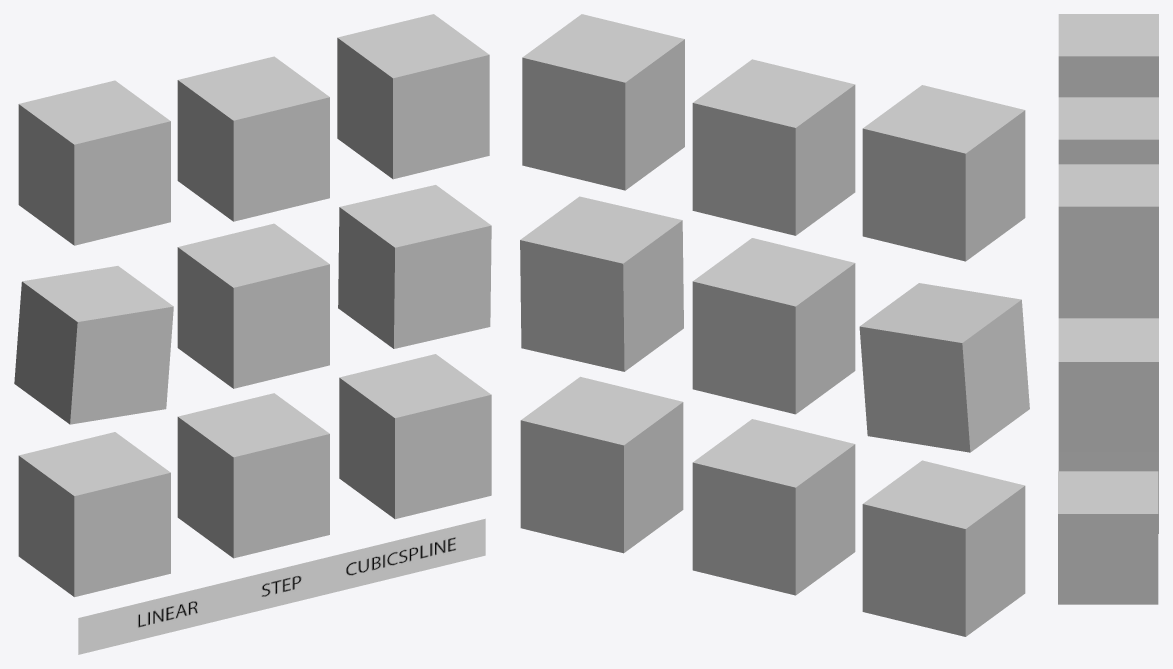
Rendered from InterpolationTest.glb.
The picture shows the model from 3 angles, left to right: view 1: azimuth 30°, elevation 25°; view 2: azimuth 150°, elevation 25°; view 3: azimuth 270°, elevation 25°; orthographic projection. The views are drawn at different scales.
Visible parts, largest first — view 1: Cube.002, Cube.009, Cube, Cube.001, Cube.008, Cube.003, Cube.006, Cube.004, Cube.005, Plane; view 2: Cube.006, Cube.003, Cube.002, Cube, Cube.001, Cube.009, Cube.004, Cube.008, Cube.005; view 3: Cube.004, Cube.002, Cube.008, Cube.009, Cube.006, Cube.003, Cube.
Part boxes in pixels (left/top/right/bottom): Cube.002: left=339, top=354, right=491, bottom=519; Cube.009: left=18, top=80, right=170, bottom=245; Cube: left=177, top=393, right=329, bottom=558; Cube.001: left=18, top=432, right=170, bottom=597; Cube.008: left=337, top=14, right=489, bottom=179; Cube.003: left=177, top=223, right=329, bottom=388; Cube.006: left=177, top=56, right=329, bottom=221; Cube.004: left=338, top=185, right=491, bottom=348; Cube.005: left=14, top=266, right=173, bottom=424; Plane: left=78, top=518, right=485, bottom=654; Cube.006: left=692, top=59, right=855, bottom=235; Cube.003: left=692, top=238, right=855, bottom=414; Cube.002: left=520, top=376, right=683, bottom=553; Cube: left=692, top=419, right=855, bottom=595; Cube.001: left=862, top=460, right=1025, bottom=636; Cube.009: left=862, top=85, right=1025, bottom=261; Cube.004: left=520, top=196, right=683, bottom=371; Cube.008: left=522, top=14, right=684, bottom=190; Cube.005: left=859, top=283, right=1029, bottom=452; Cube.004: left=1058, top=318, right=1158, bottom=452; Cube.002: left=1058, top=471, right=1158, bottom=604; Cube.008: left=1058, top=164, right=1158, bottom=297; Cube.009: left=1058, top=14, right=1158, bottom=97; Cube.006: left=1058, top=97, right=1158, bottom=164; Cube.003: left=1058, top=297, right=1158, bottom=318; Cube: left=1058, top=452, right=1158, bottom=533.
Bounding box in the file's own units: 8.74 × 10.12 × 2.01.
2 materials, 1 textured.
